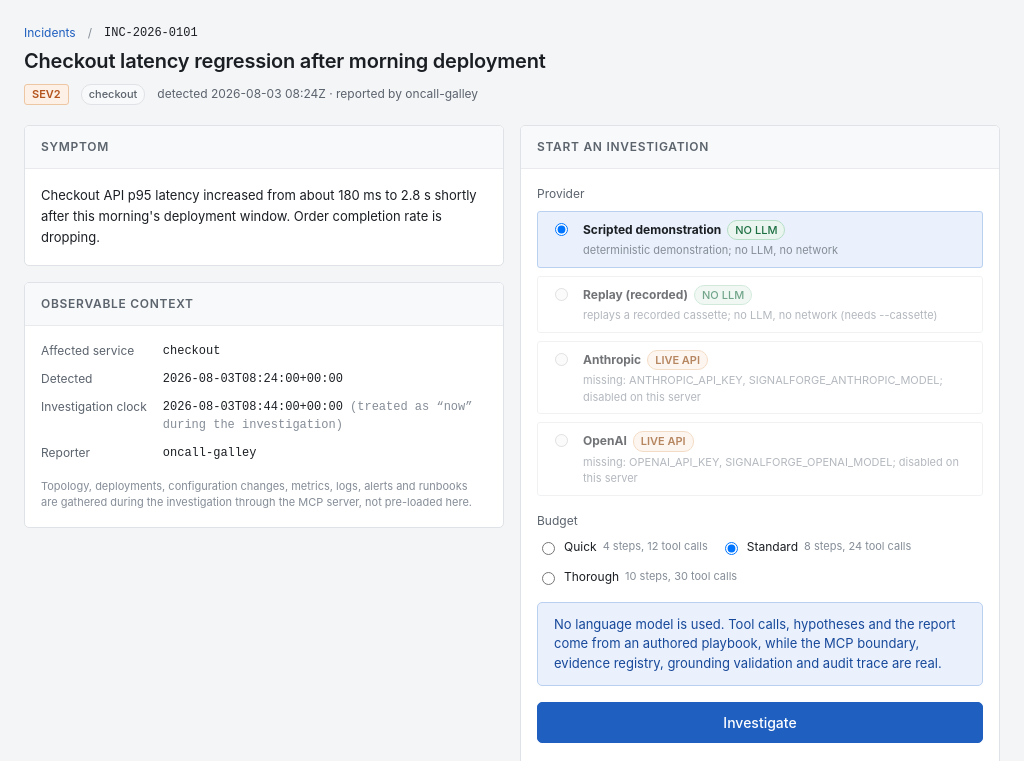
Scenario: IncidentDetailPage › surfaces a runner-busy refusal without losing the page
The width and height of the screenshot is (1024, 761).
Click the button "Investigate".
click(760, 722)  # box [537,702,983,743]
(page scrolled)
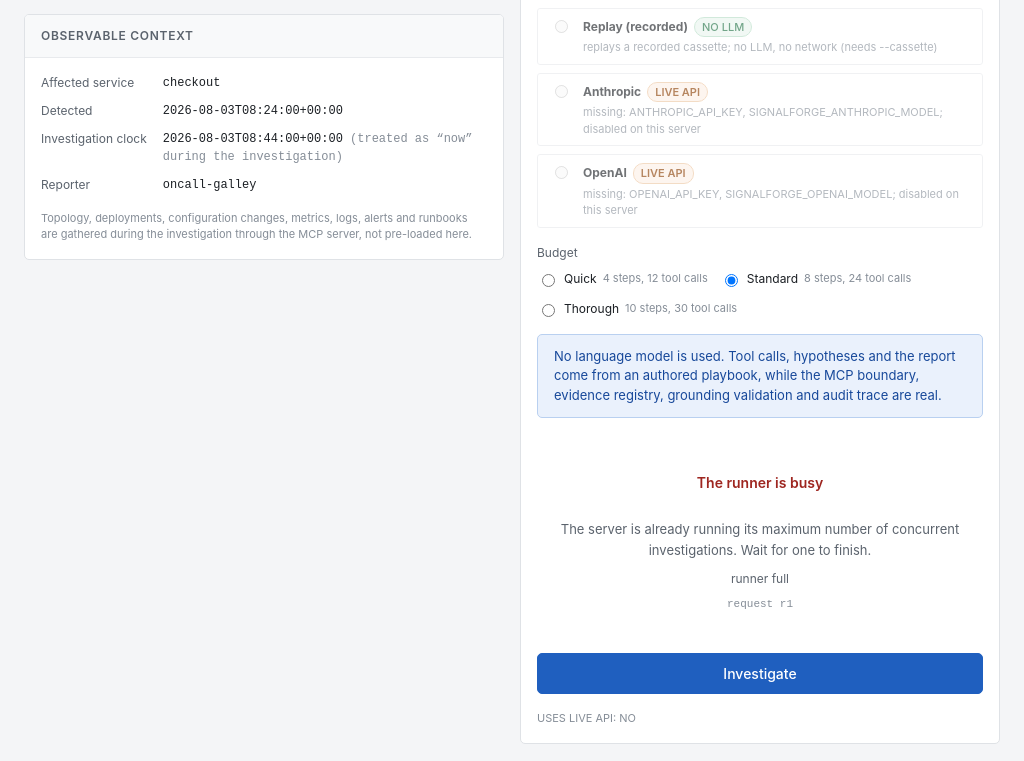
Expected: the button "Investigate" is enabled, [537,653,983,694]
Expected: the text "The runner is busy" is shown, [697,472,823,493]
